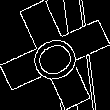O_NE: (23, 25, 87, 85)
